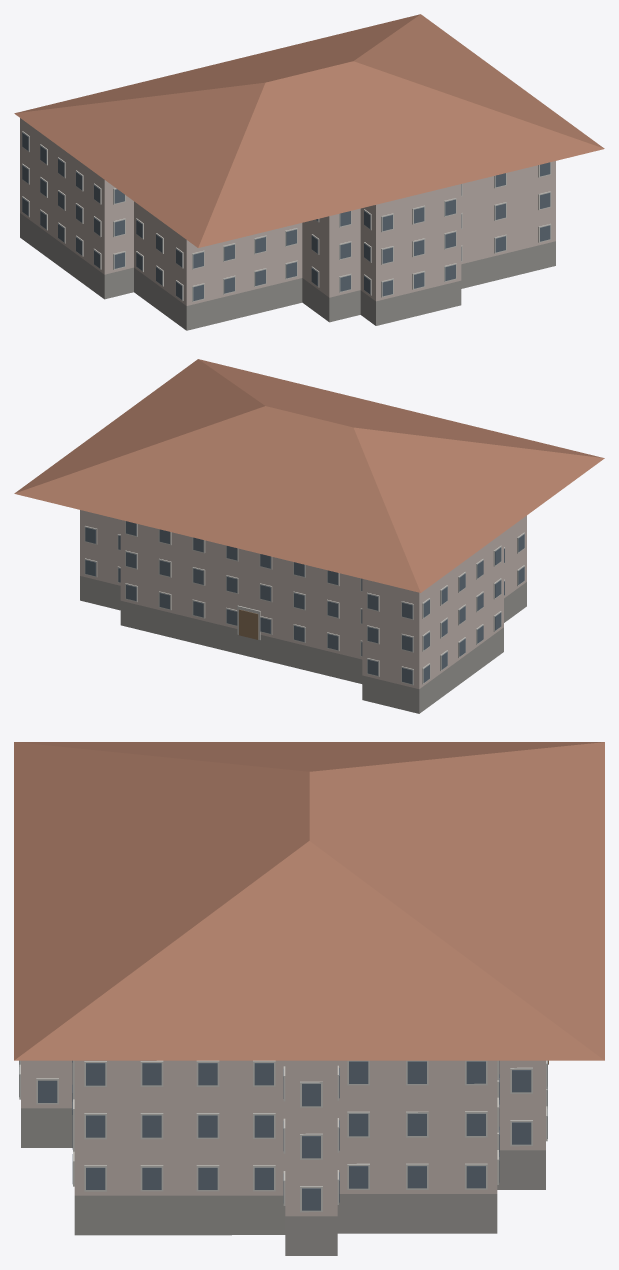
The model's file is landmark-civic-kandertalhalle.glb.
3 renders of one model, top to bottom at view 1: azimuth 30°, elevation 25°; view 2: azimuth 150°, elevation 25°; view 3: azimuth 270°, elevation 25°, orthographic. The views are drawn at different scales.
Visible parts, largest first — view 1: building; view 2: building; view 3: building.
Part boxes in pixels (x1=…): building: x1=14, y1=14, x2=604, y2=330; building: x1=14, y1=359, x2=604, y2=713; building: x1=14, y1=742, x2=604, y2=1255.
Size of the model in its own units: 43.11 by 18.5 by 33.79.
